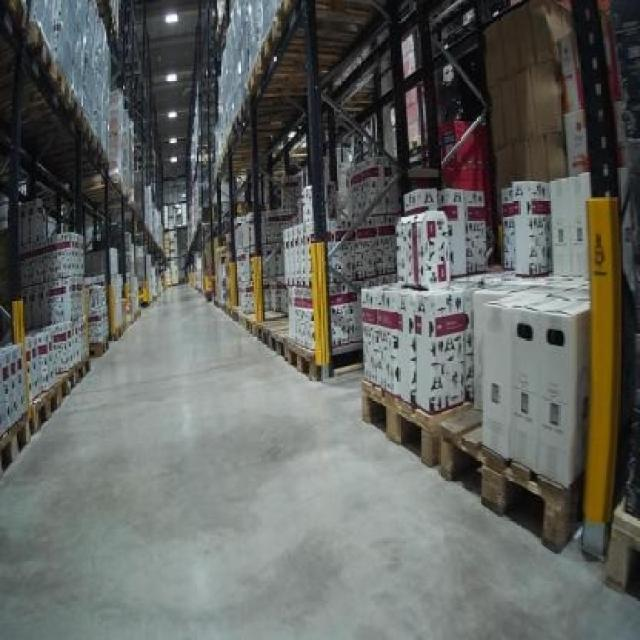floor: (0, 285, 637, 637)
pallets: (480, 292, 586, 485), (360, 285, 466, 409)
